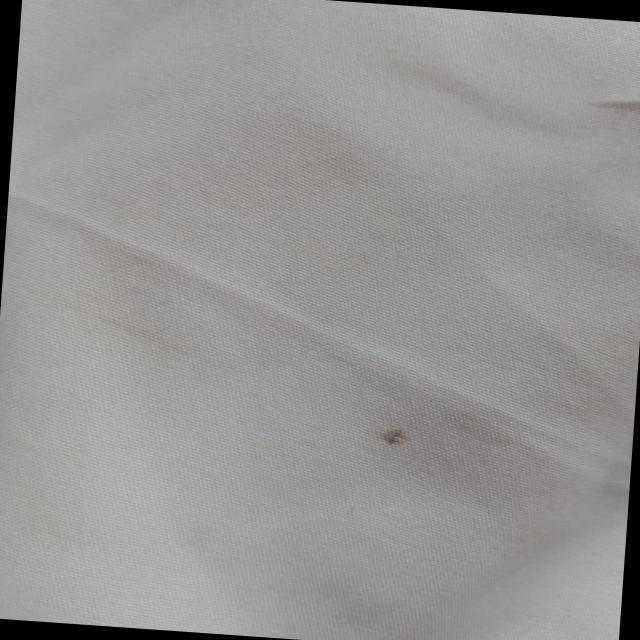stain: (366, 417, 425, 454)
